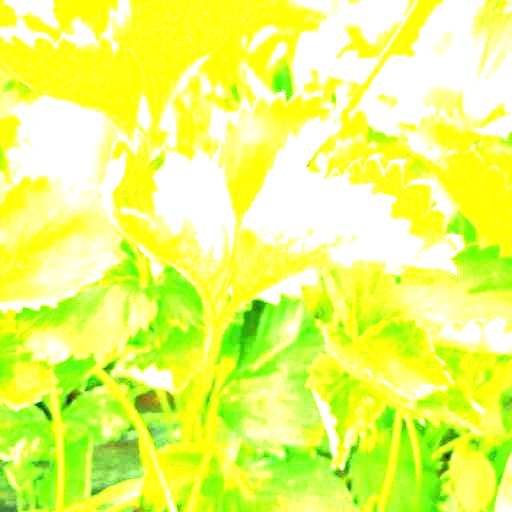Powdery Mildew Leaf: (231, 153, 464, 301), (101, 130, 235, 304), (219, 88, 343, 239)
